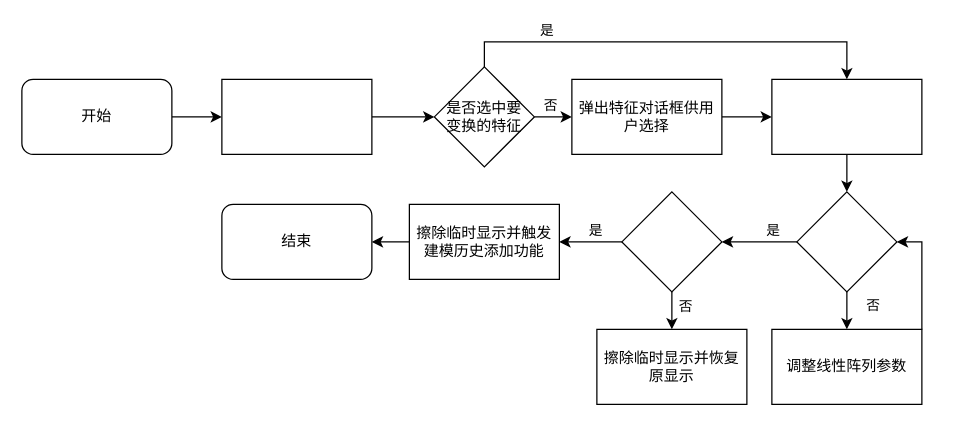
Image size: 954x426. Some labels were removed from this diagram. The centre of each missing label's shape, as x and y in pixels:
工具栏点击线性特征命令: point 296,116
是否确认 生成特征: point 671,241
是否符合 用户要求: point 846,241
由选择的特征和默认参数生成临时显示: point 846,116
